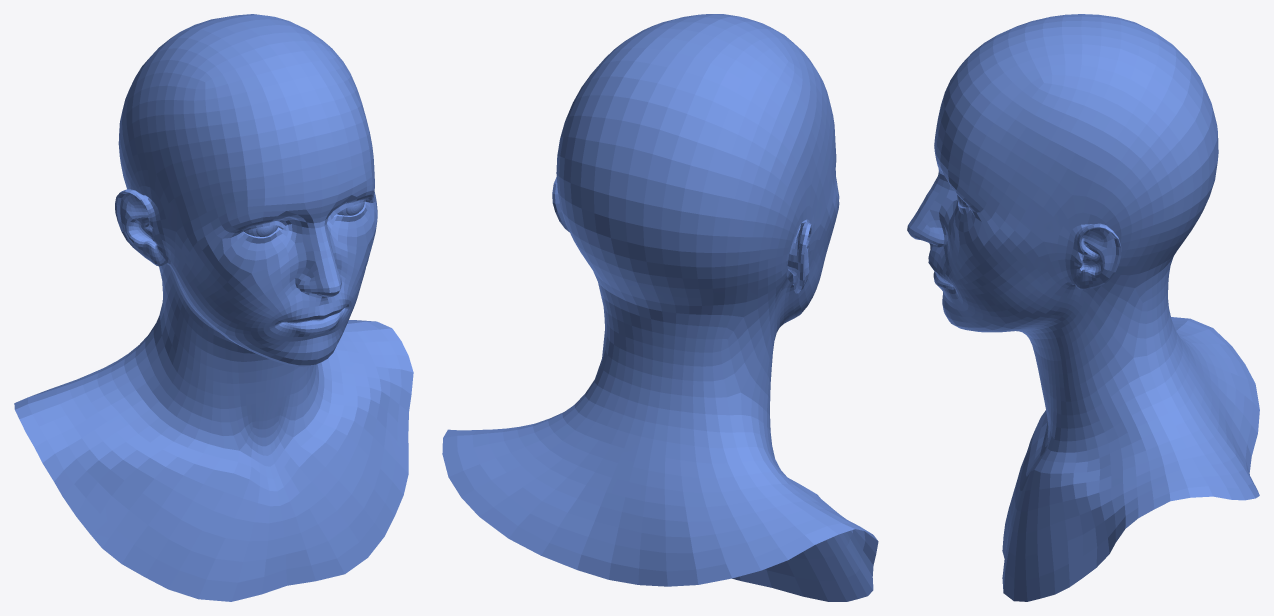
3 renders of one model, left to right at view 1: azimuth 30°, elevation 25°; view 2: azimuth 150°, elevation 25°; view 3: azimuth 270°, elevation 25°, orthographic. The views are drawn at different scales.
Parts seen in each view (by area): view 1: Head_female; view 2: Head_female; view 3: Head_female.
Part boxes in pixels (box(x1,y1,x2,y2)): Head_female: box(14, 14, 413, 601); Head_female: box(442, 14, 878, 601); Head_female: box(907, 14, 1259, 601).
Size of the model in its own units: 0.2836 by 0.3832 by 0.2277.
